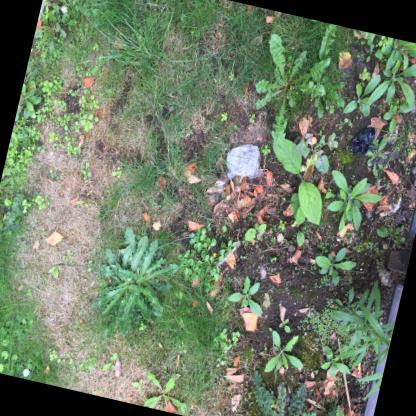Plastic: (227, 143, 262, 180), (352, 126, 378, 154), (209, 171, 228, 203)
